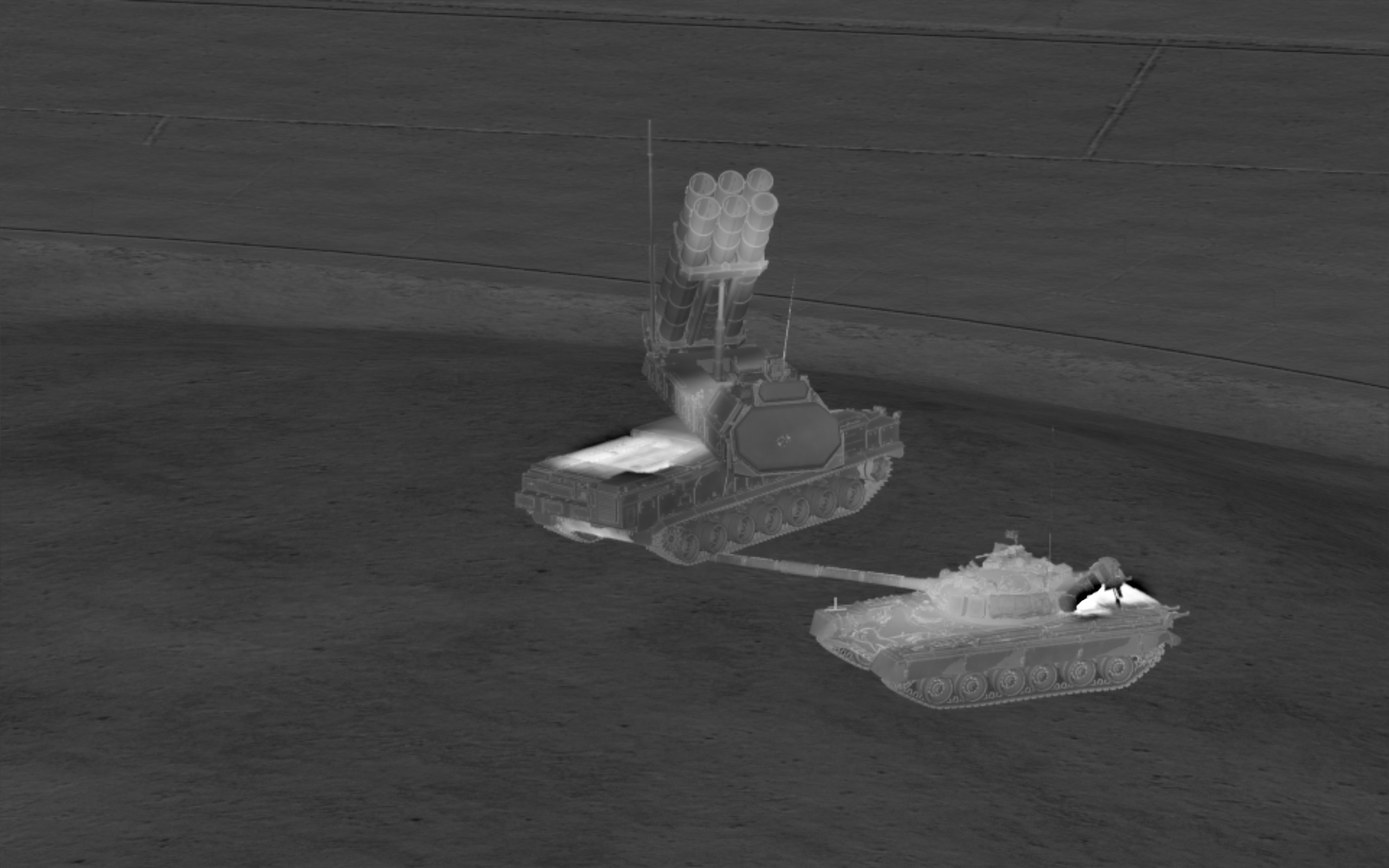BUK_TELAR: (513, 167, 906, 568)
